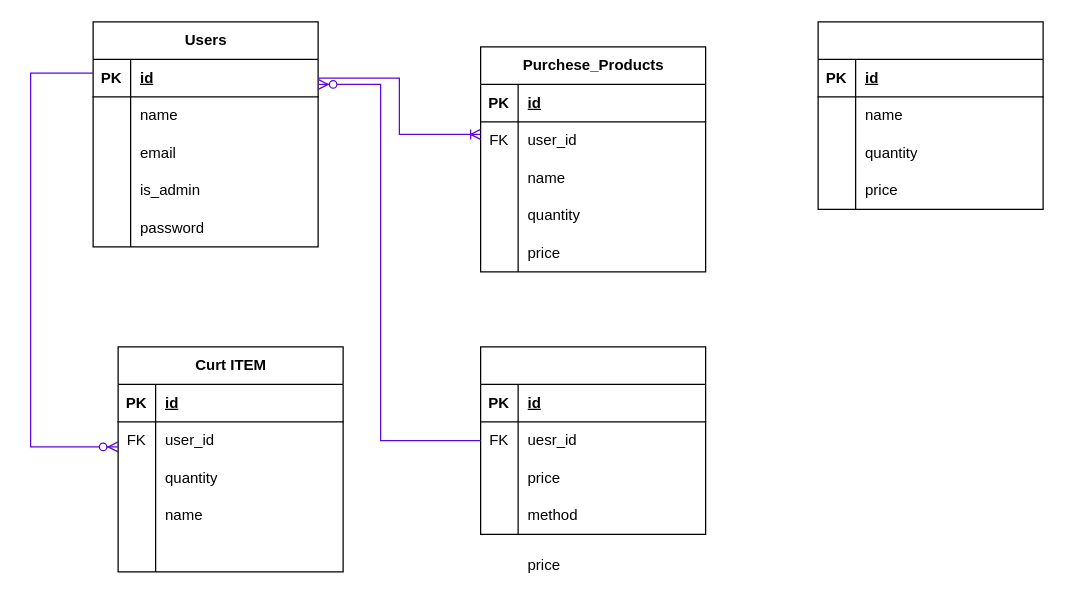
Image size: 1065x606. Some labels were removed from this diagram. The box of each missing label's shape, as (x1, y1, x2, y2) in pixels:
Products: (817, 21, 1043, 209)
Table: (479, 346, 706, 534)
